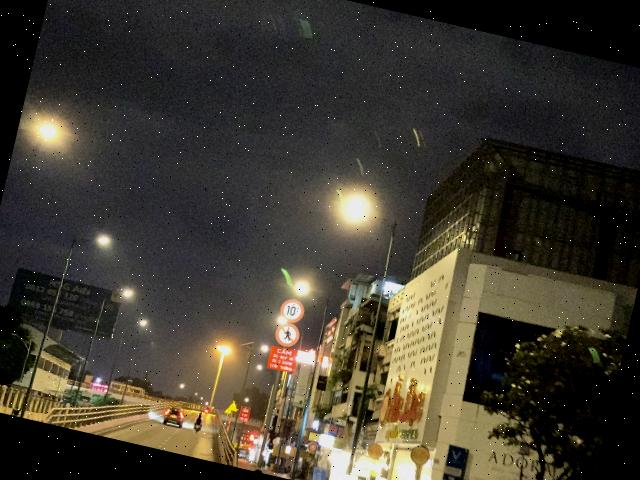cam-nguoi-di-bo: (272, 320, 302, 350)
han-che-trong-luong-xe: (277, 296, 306, 325)
